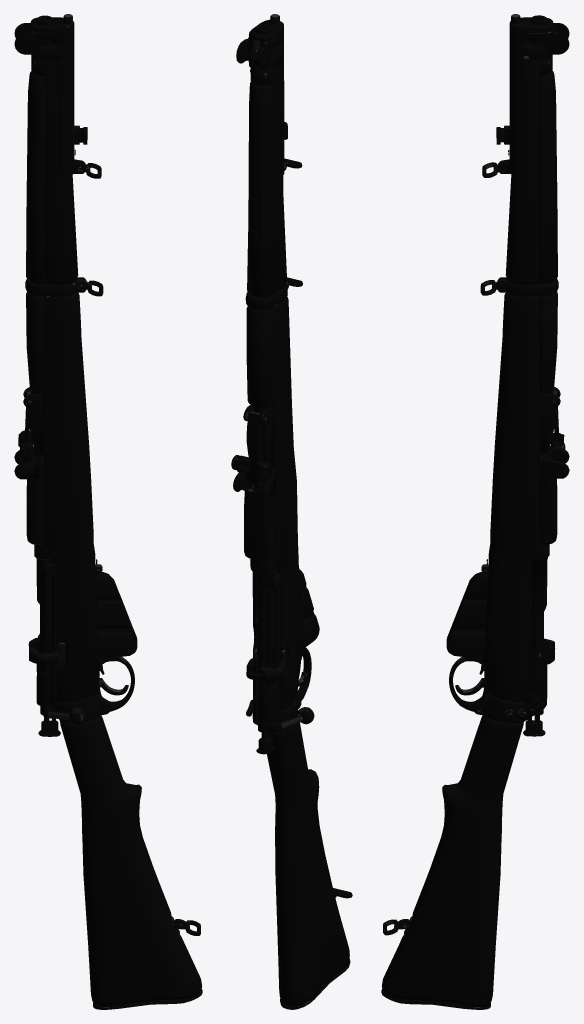
The model's file is LeeEnfieldNo4.fbx.
The picture shows the model from 3 angles, left to right: view 1: azimuth 90°, elevation 25°; view 2: azimuth 150°, elevation 25°; view 3: azimuth 270°, elevation 25°; orthographic projection.
Visible parts, largest first — view 1: asset_LeeEnfieldNo4.001; view 2: asset_LeeEnfieldNo4.001; view 3: asset_LeeEnfieldNo4.001.
Part boxes in pixels (left/top/right/bottom): asset_LeeEnfieldNo4.001: left=14, top=14, right=202, bottom=1009; asset_LeeEnfieldNo4.001: left=231, top=14, right=352, bottom=1009; asset_LeeEnfieldNo4.001: left=381, top=14, right=569, bottom=1009.
Size of the model in its own units: 0.0374 by 0.678 by 0.1167.
